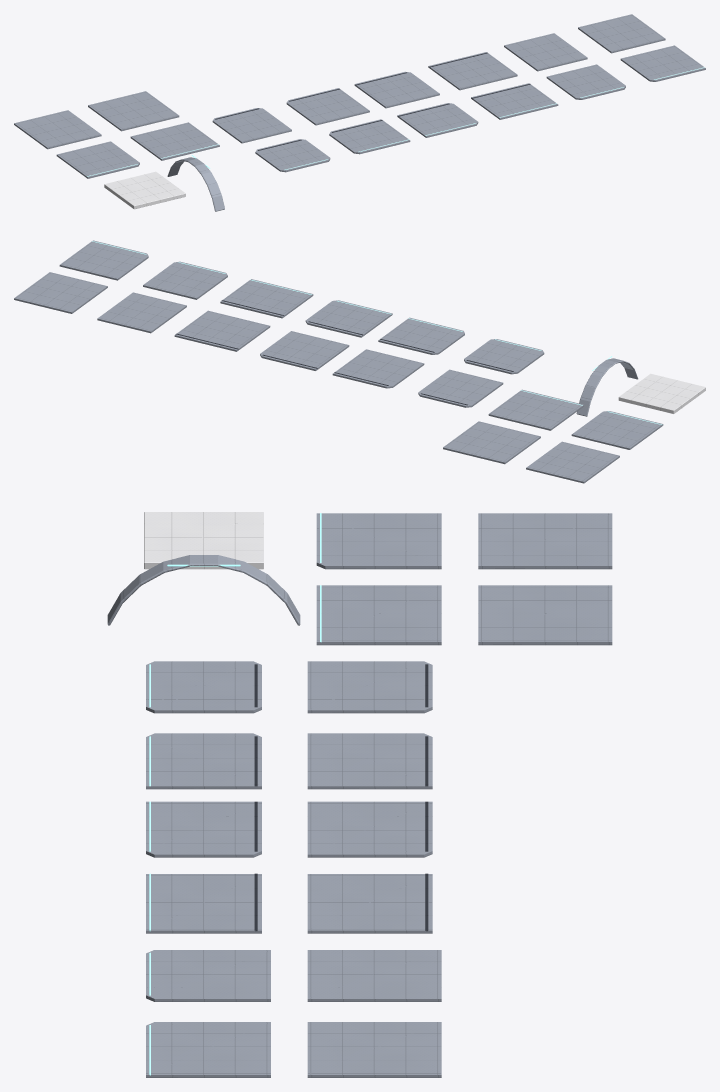
Rendered from R4H_HullKit.glb.
3 renders of one model, top to bottom at view 1: azimuth 30°, elevation 25°; view 2: azimuth 150°, elevation 25°; view 3: azimuth 270°, elevation 25°, orthographic. The views are drawn at different scales.
Parts seen in each view (by area): view 1: plate_15, plate_11, plate_07, plate_14, plate_13, gasket, plate_03, plate_05, plate_09, plate_10, plate_06, plate_12 (+6 smaller); view 2: plate_15, plate_11, plate_07, plate_14, plate_13, plate_09, gasket, plate_03, plate_06, plate_05, plate_10, plate_12 (+6 smaller); view 3: plate_15, plate_14, plate_07, plate_11, plate_13, plate_10, plate_09, plate_06, plate_12, plate_05, plate_03, plate_08 (+6 smaller).
Boxes of the visible parts, bbox=[...] form: plate_15: bbox=[88, 91, 179, 131]; plate_11: bbox=[428, 52, 517, 90]; plate_07: bbox=[130, 122, 219, 160]; plate_14: bbox=[14, 110, 101, 149]; plate_13: bbox=[578, 14, 665, 53]; gasket: bbox=[104, 171, 185, 209]; plate_03: bbox=[471, 83, 558, 119]; plate_05: bbox=[620, 45, 705, 81]; plate_09: bbox=[286, 88, 369, 125]; plate_10: bbox=[354, 71, 439, 108]; plate_06: bbox=[56, 141, 139, 178]; plate_12: bbox=[504, 33, 587, 71]; plate_15: bbox=[443, 421, 540, 464]; plate_11: bbox=[174, 310, 270, 351]; plate_07: bbox=[488, 389, 583, 430]; plate_14: bbox=[526, 441, 619, 483]; plate_13: bbox=[14, 272, 107, 313]; plate_09: bbox=[332, 349, 424, 388]; gasket: bbox=[618, 373, 705, 413]; plate_03: bbox=[220, 279, 313, 318]; plate_06: bbox=[571, 411, 663, 449]; plate_05: bbox=[59, 240, 148, 280]; plate_10: bbox=[260, 331, 349, 370]; plate_12: bbox=[97, 292, 186, 333]; plate_15: bbox=[478, 585, 612, 645]; plate_14: bbox=[478, 513, 612, 569]; plate_07: bbox=[316, 585, 441, 645]; plate_11: bbox=[307, 873, 432, 933]; plate_13: bbox=[307, 1022, 441, 1077]; plate_10: bbox=[307, 801, 432, 857]; plate_09: bbox=[307, 733, 432, 789]; plate_06: bbox=[316, 513, 441, 569]; plate_12: bbox=[307, 950, 441, 1001]; plate_05: bbox=[146, 1022, 270, 1077]; plate_03: bbox=[146, 873, 261, 933]; plate_08: bbox=[307, 661, 432, 713].
Bounding box in the file's own units: 5.45 × 0.2803 × 2.07.
4 materials, 3 textured.
